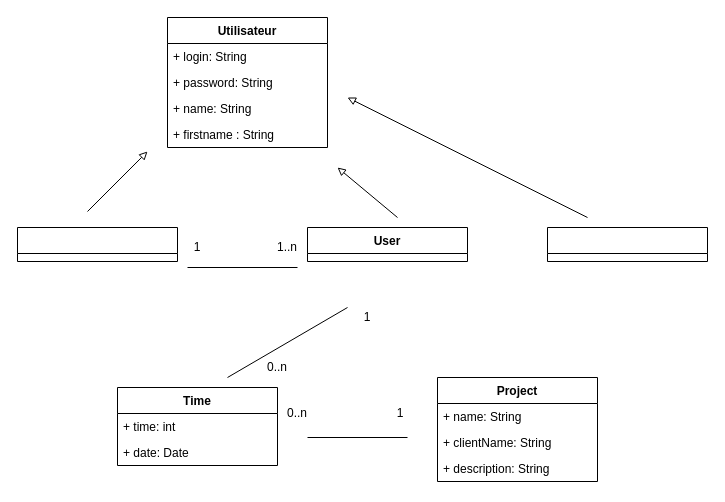
This 725x502 diagram has some shape labels left out. The centre of each missing label's shape, as x and y in pixels:
"Admin" goes at pixel 627 244.
"Manager" goes at pixel 97 244.
